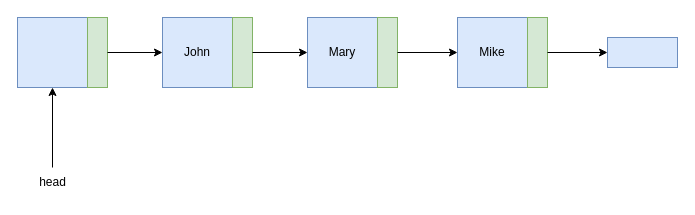
This 695x215 diagram has some shape labels left out. Each missing label, with the centre of its shape:
Jane: (52,52)
null: (642,52)
